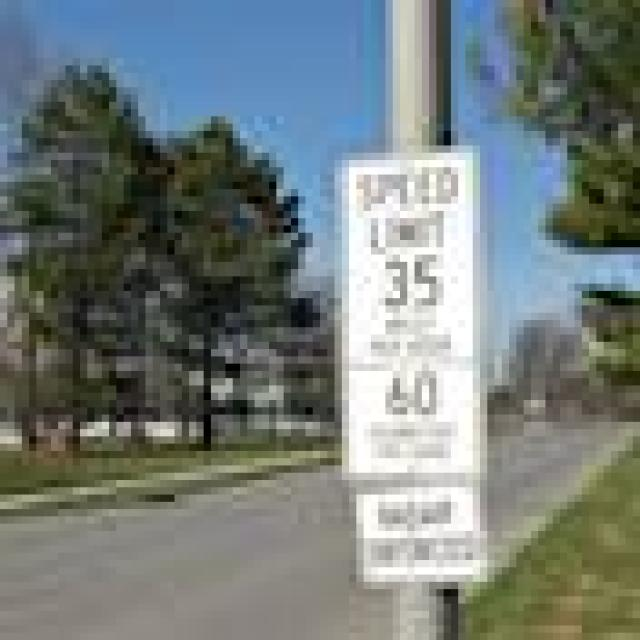speedLimit35: (342, 171, 480, 360)
